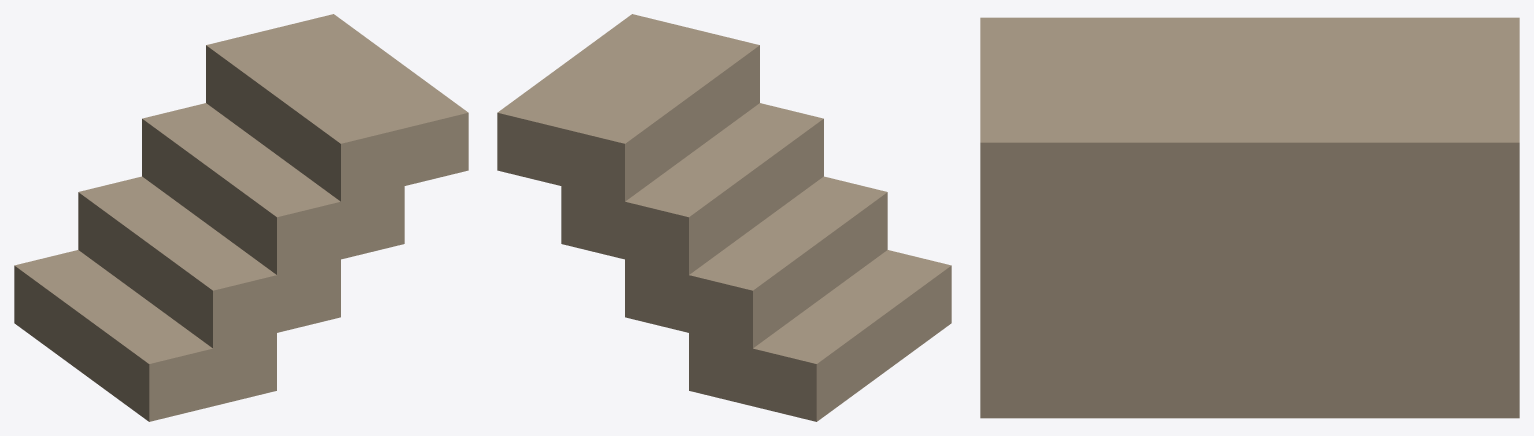
File: Stairs.fbx
3 renders of one model, left to right at view 1: azimuth 30°, elevation 25°; view 2: azimuth 150°, elevation 25°; view 3: azimuth 270°, elevation 25°, orthographic. The views are drawn at different scales.
Parts seen in each view (by area): view 1: Stairs1; view 2: Stairs1; view 3: Stairs1.
Part boxes in pixels (x1,y1,x2,y2): Stairs1: (14, 14, 468, 421); Stairs1: (497, 14, 951, 421); Stairs1: (980, 17, 1519, 418).
Size of the model in its own units: 1.25 by 0.865 by 0.9139.
